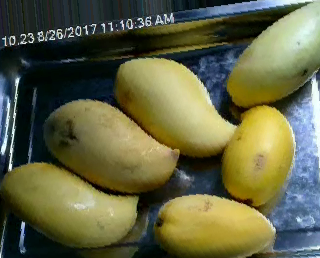Mango: (43, 100, 175, 192), (0, 161, 138, 246), (115, 57, 237, 152), (225, 0, 320, 107), (156, 193, 274, 258), (222, 107, 295, 203)
